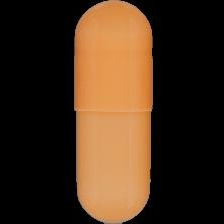68382-702: (0, 0, 224, 224)
